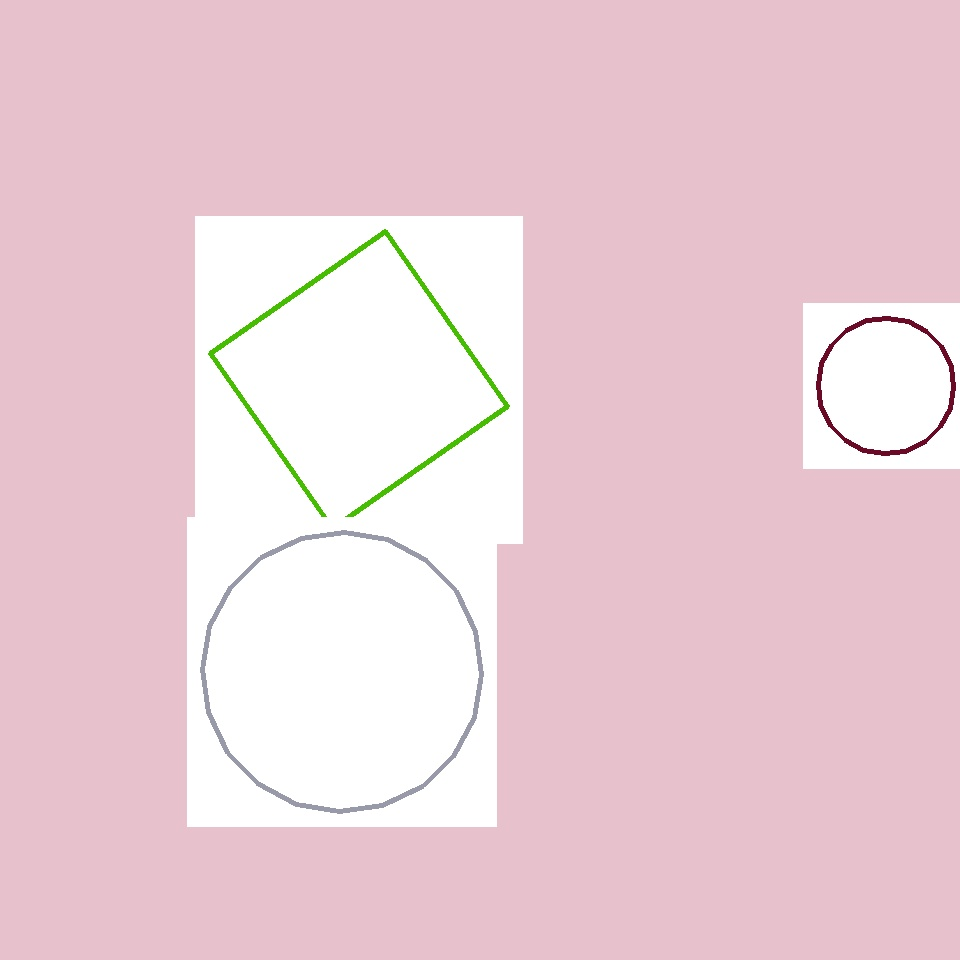circle: (146, 270, 342, 470), (46, 487, 222, 668), (664, 685, 844, 861)
square: (210, 231, 508, 528), (548, 235, 636, 324)
triangle: (202, 532, 482, 811), (818, 318, 954, 454)
